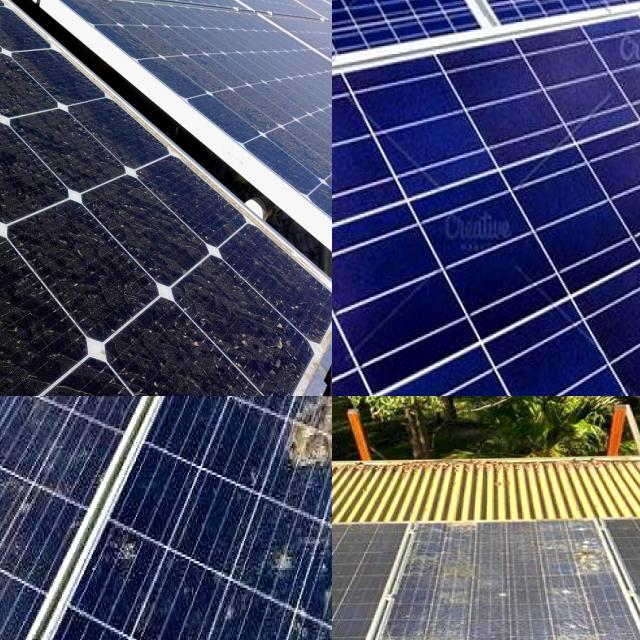bird: (281, 396, 332, 493), (392, 570, 489, 610), (411, 514, 501, 556), (534, 608, 622, 640), (570, 524, 614, 586), (383, 612, 479, 640)
crack: (332, 6, 640, 396), (402, 0, 640, 84)
dust: (215, 268, 305, 384), (108, 185, 194, 272), (0, 270, 64, 372), (0, 60, 101, 120), (54, 218, 112, 322), (135, 326, 217, 396), (0, 297, 56, 396), (32, 105, 109, 175), (0, 153, 54, 244), (0, 0, 84, 58), (0, 175, 33, 280), (0, 135, 34, 214), (0, 0, 25, 53)
